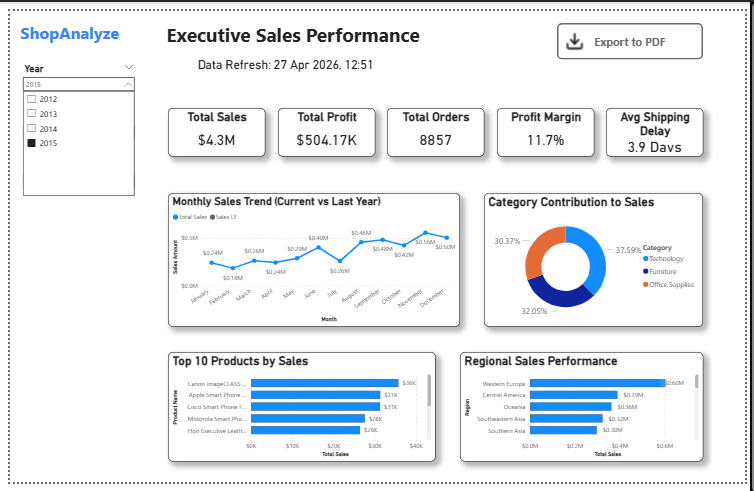

Layout of this report page (visuals, bound fields, positions):
{"tool":"powerbi","page":{"name":"Executive Overview","canvas":[1450,930],"ordinal":0},"visuals":[{"type":"slicer","fields":{"Values":["orders.Order Year"]},"box":[16,96,240,64],"z":0},{"type":"slicer","fields":{"Values":["orders.Region"]},"box":[16,192,240,64],"z":1000},{"type":"slicer","fields":{"Values":["orders.Category"]},"box":[16,288,240,64],"z":2000},{"type":"card","title":"Total Sales","fields":{"Values":["orders.Total Sales"]},"box":[312,192,192,96],"z":3000},{"type":"card","title":"Total Profit","fields":{"Values":["orders.Total Profit"]},"box":[528,192,192,96],"z":4000},{"type":"card","title":"Total Orders","fields":{"Values":["orders.Total Orders"]},"box":[744,192,192,96],"z":5000},{"type":"card","title":"Profit Margin","fields":{"Values":["orders.Profit Margin"]},"box":[960,192,192,96],"z":6000},{"type":"card","title":"Avg Shipping Delay","fields":{"Values":["orders.Avg Shipping Delay Display"]},"box":[1176,192,192,96],"z":7000},{"type":"lineChart","title":"Monthly Sales Trend (Current vs Last Year)","fields":{"Y":["orders.Total Sales","orders.Sales LY"],"Category":["Date Table.Month"]},"box":[312,360,576,264],"z":8000},{"type":"donutChart","title":"Category Contribution to Sales","fields":{"Category":["orders.Category"],"Y":["orders.Total Sales"]},"box":[936,360,432,264],"z":9000},{"type":"clusteredBarChart","title":"Top 10 Products by Sales","fields":{"Y":["orders.Total Sales"],"Category":["orders.Product Name"]},"box":[312,672,528,216],"z":10000},{"type":"clusteredBarChart","title":"Regional Sales Performance","fields":{"Category":["orders.Region"],"Y":["orders.Total Sales"]},"box":[888,672,480,216],"z":11000},{"type":"textbox","box":[16,16,240,64],"z":12000},{"type":"textbox","box":[304,16,608,64],"z":13000},{"type":"card","fields":{"Values":["Refresh Time.Last Refresh Time"]},"box":[304,80,480,48],"z":14000},{"type":"actionButton","box":[1080,24,288,72],"z":15000}]}

Visuals, with their boxes in screenshot pixels (x1, y1, x2, y2), scaled from the page's 1450x930 canvas onto the 754x491 screenshot:
slicer - orders.Order Year: bbox=[8, 51, 133, 84]
slicer - orders.Region: bbox=[8, 101, 133, 135]
slicer - orders.Category: bbox=[8, 152, 133, 186]
"Total Sales" card: bbox=[162, 101, 262, 152]
"Total Profit" card: bbox=[275, 101, 374, 152]
"Total Orders" card: bbox=[387, 101, 487, 152]
"Profit Margin" card: bbox=[499, 101, 599, 152]
"Avg Shipping Delay" card: bbox=[612, 101, 711, 152]
"Monthly Sales Trend (Current vs Last Year)" lineChart: bbox=[162, 190, 462, 329]
"Category Contribution to Sales" donutChart: bbox=[487, 190, 711, 329]
"Top 10 Products by Sales" clusteredBarChart: bbox=[162, 355, 437, 469]
"Regional Sales Performance" clusteredBarChart: bbox=[462, 355, 711, 469]
textbox: bbox=[8, 8, 133, 42]
textbox: bbox=[158, 8, 474, 42]
card - Refresh Time.Last Refresh Time: bbox=[158, 42, 408, 68]
actionButton: bbox=[562, 13, 711, 51]
